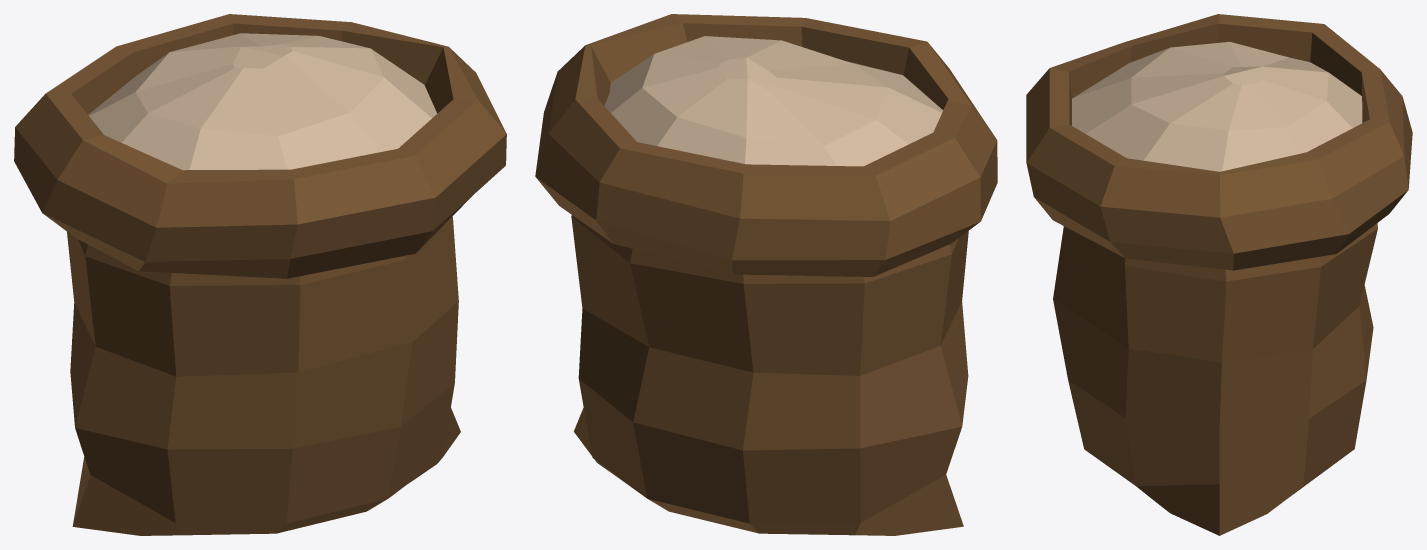
File: bag_with_flour.fbx
3 views of the same model, side by side, from view 1: azimuth 30°, elevation 25°; view 2: azimuth 150°, elevation 25°; view 3: azimuth 270°, elevation 25° (orthographic). The views are drawn at different scales.
Parts seen in each view (by area): view 1: bag_open, flour; view 2: bag_open, flour; view 3: bag_open, flour.
Boxes of the visible parts, bbox=[...] form: bag_open: bbox=[14, 14, 506, 535]; flour: bbox=[88, 33, 437, 170]; bag_open: bbox=[535, 14, 997, 535]; flour: bbox=[604, 36, 943, 166]; bag_open: bbox=[1026, 14, 1412, 535]; flour: bbox=[1072, 41, 1362, 171].
Bounding box in the file's own units: 49.87 × 45.77 × 41.97.
